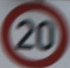20 km speed: (1, 1, 70, 67)
